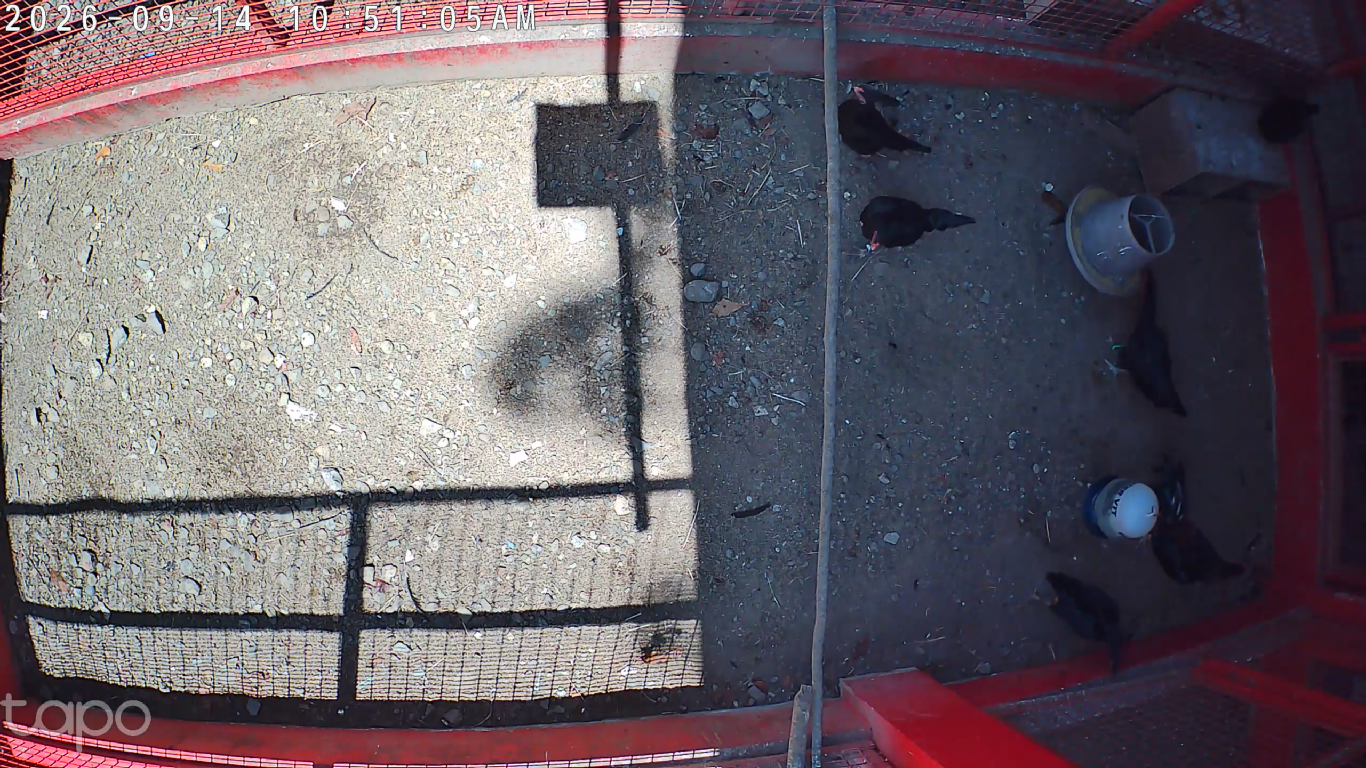Chicken: (1095, 265, 1189, 422), (1027, 570, 1126, 679), (842, 194, 976, 265), (834, 84, 936, 165)
Drinker: (1082, 474, 1162, 541)
Feeder: (1065, 184, 1178, 300)
Leg_Band_Green: (1111, 344, 1124, 351)
Leg_Band_White: (866, 244, 873, 251)
Rooster: (1131, 464, 1250, 586)
